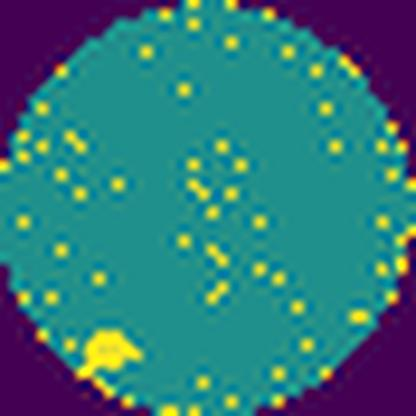Loc: (74, 327, 144, 381)
